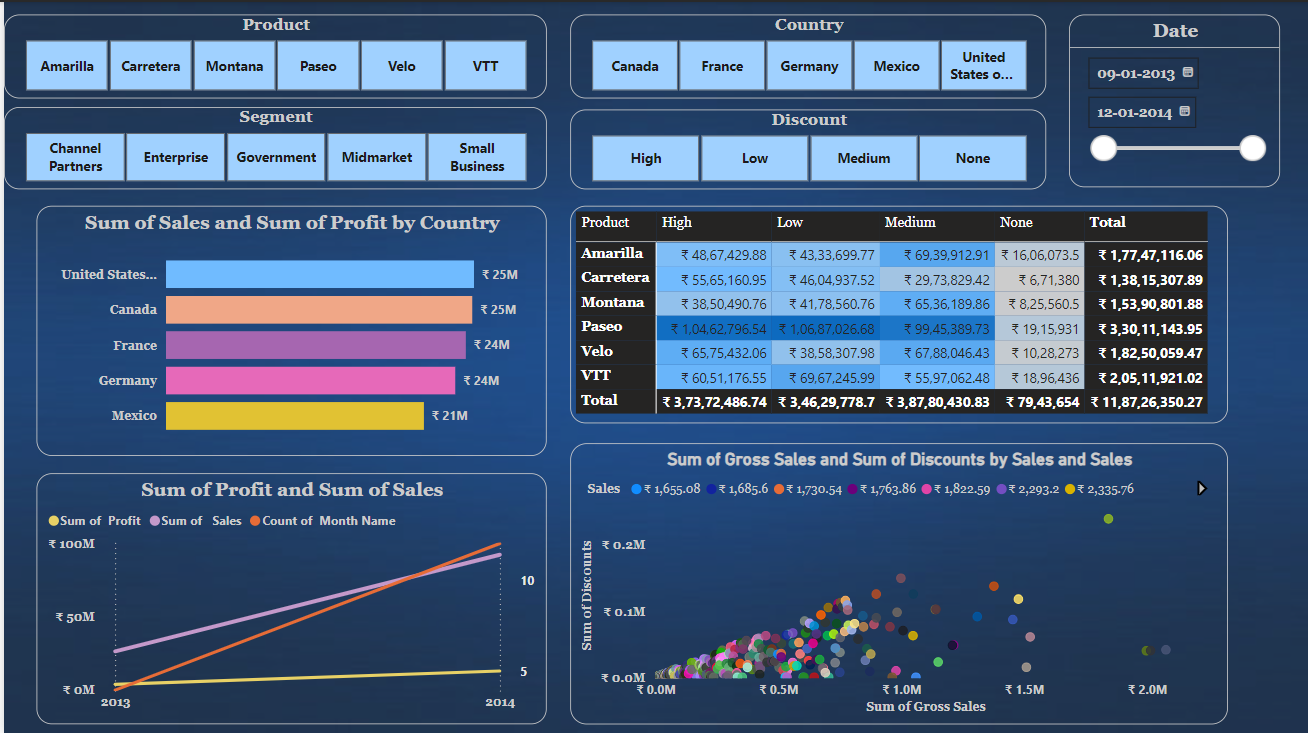

What the dashboard file says about the page in this screenshot:
{"tool":"powerbi","page":{"name":"Page 1","canvas":[1280,720],"ordinal":0},"visuals":[{"type":"barChart","fields":{"Category":["financial_data.Country"],"Y":["Sum(financial_data.  Sales )"]},"box":[31.9,200,500.6,245.4],"z":0},{"type":"slicer","title":"Segment","fields":{"Values":["financial_data.Segment"]},"box":[0,103.1,532.5,81],"z":1000},{"type":"slicer","title":"Product","fields":{"Values":["financial_data. Product "]},"box":[0,12.3,532.5,82.2],"z":2000},{"type":"lineChart","title":"Sum of  Profit and Sum of   Sales  ","fields":{"Category":["financial_data.Year"],"Y":["Sum(financial_data. Profit )","Sum(financial_data.  Sales )"],"Y2":["Count(financial_data. Month Name )"]},"box":[31.9,462.6,500.6,246.6],"z":3000},{"type":"scatterChart","fields":{"X":["Sum(financial_data. Gross Sales )"],"Y":["Sum(financial_data. Discounts )"],"Series":["financial_data.  Sales "],"Category":["financial_data.  Sales "]},"box":[555.8,433.1,645.4,276.1],"z":4000},{"type":"pivotTable","fields":{"Rows":["financial_data. Product "],"Columns":["financial_data. Discount Band "],"Values":["Sum(financial_data.  Sales )"]},"box":[555.8,200,645.4,213.5],"z":5000},{"type":"slicer","title":"Date","fields":{"Values":["financial_data.Date"]},"box":[1045.4,12.3,207.4,169.3],"z":6000},{"type":"slicer","title":"Country","fields":{"Values":["financial_data.Country"]},"box":[555.8,12.3,467.5,82.2],"z":7000},{"type":"slicer","title":"Discount","fields":{"Values":["financial_data. Discount Band "]},"box":[555.8,105.5,467.5,78.5],"z":8000}]}

Visuals, with their boxes in screenshot pixels (x1, y1, x2, y2), scaled from the page's 1280x720 canvas onto the 1308x733 screenshot:
barChart - financial_data.Country x Sum(financial_data.  Sales ): (x1=33, y1=204, x2=544, y2=453)
"Segment" slicer: (x1=0, y1=105, x2=544, y2=187)
"Product" slicer: (x1=0, y1=13, x2=544, y2=96)
"Sum of  Profit and Sum of   Sales  " lineChart: (x1=33, y1=471, x2=544, y2=722)
scatterChart - Sum(financial_data. Gross Sales ) x Sum(financial_data. Discounts ): (x1=568, y1=441, x2=1227, y2=722)
pivotTable - financial_data. Product  x financial_data. Discount Band : (x1=568, y1=204, x2=1227, y2=421)
"Date" slicer: (x1=1068, y1=13, x2=1280, y2=185)
"Country" slicer: (x1=568, y1=13, x2=1046, y2=96)
"Discount" slicer: (x1=568, y1=107, x2=1046, y2=187)
